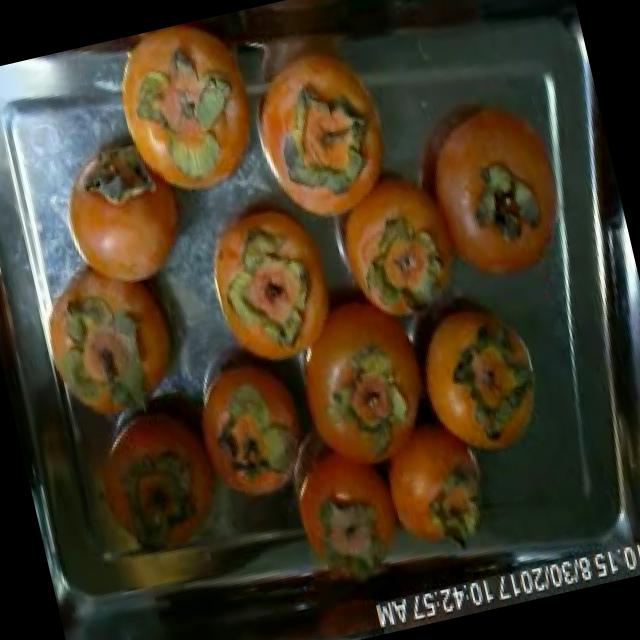Fruit: (412, 300, 560, 477)
